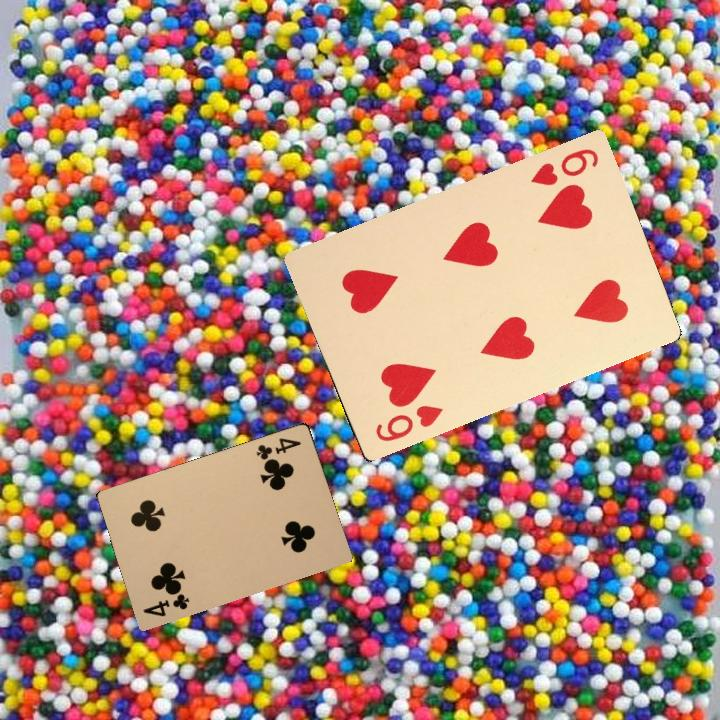4c: (139, 587, 192, 619), (252, 434, 304, 466)
6h: (526, 144, 602, 189), (371, 401, 444, 445)
